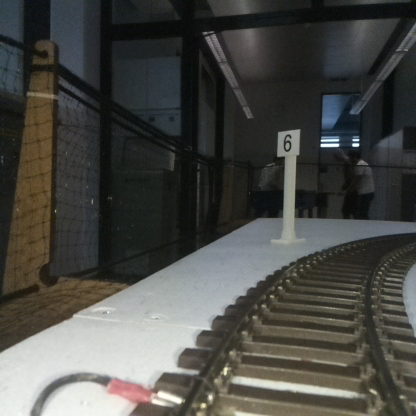white-info-6: (277, 130, 299, 242)
